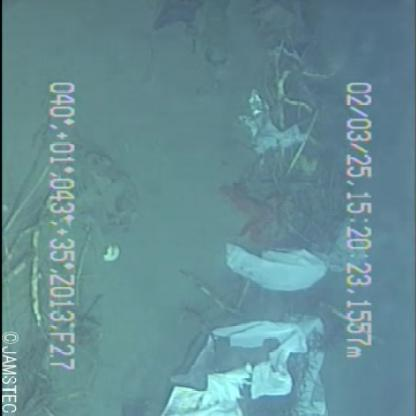Rác: (156, 310, 343, 416), (215, 201, 377, 294)
